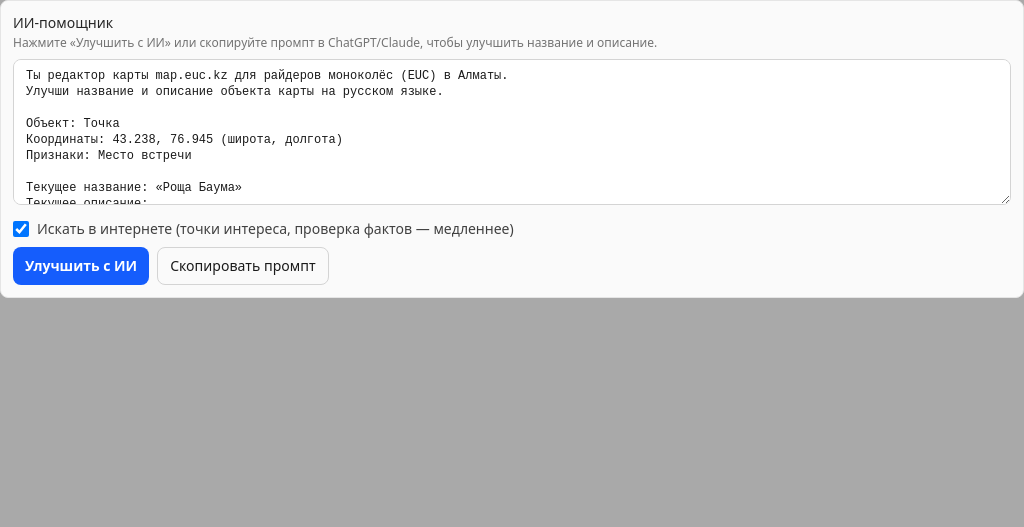
Test: AiAssistPanel › показывает точки интереса из предложения
The width and height of the screenshot is (1024, 527).
Click the button "Улучшить с ИИ". click: (81, 266)
box: [13, 247, 149, 285]
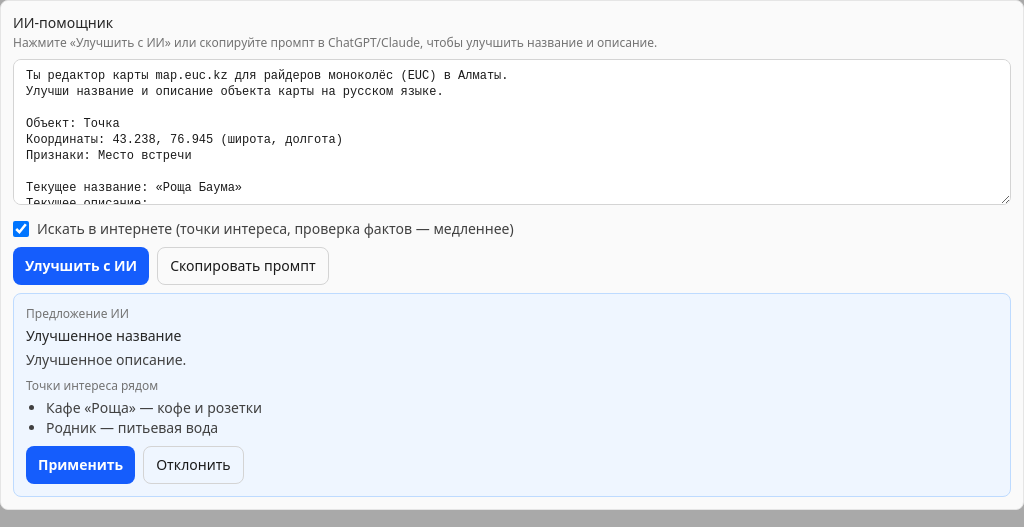
Expected: the text "Точки интереса рядом" is shown, [26, 377, 158, 394]
Expected: the list item "Кафе «Роща» — кофе и розетки" is shown, [46, 398, 262, 417]
Expected: the list item "Родник — питьевая вода" is shown, [46, 418, 218, 437]
